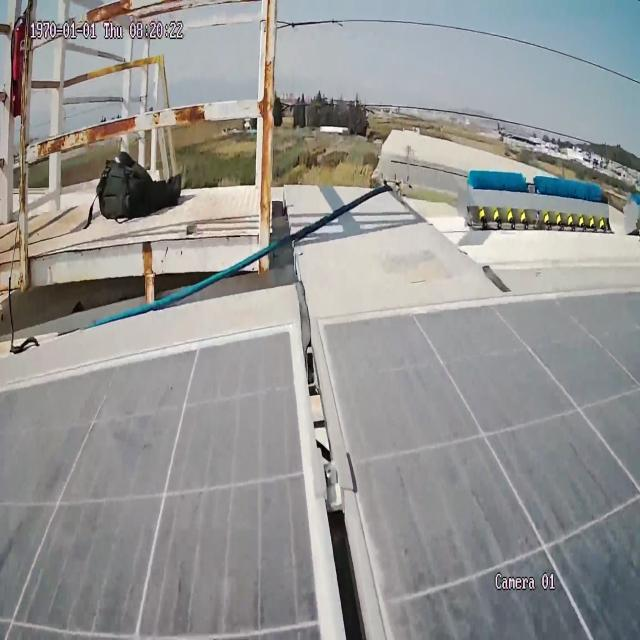interior panel: (280, 303, 422, 640)
